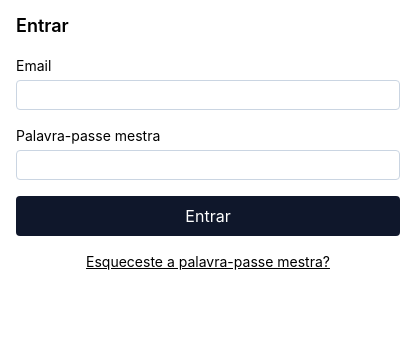
Scenario: recovery mode › switches to the recovery form and back
The width and height of the screenshot is (417, 359).
Click the button "Esqueceste a palavra-passe mestra?": (208, 262) [16, 252, 400, 272]
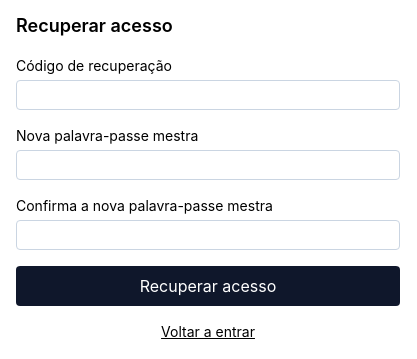
expect the heading "Recuperar acesso" is shown: met, box [16, 15, 173, 36]
Click the button "Voltar a entrar": (208, 332) [16, 322, 400, 342]
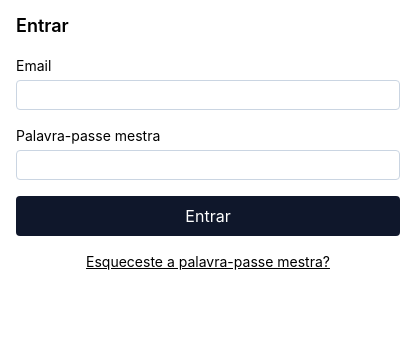
expect the heading "Entrar" is shown: met, box [16, 15, 69, 36]
